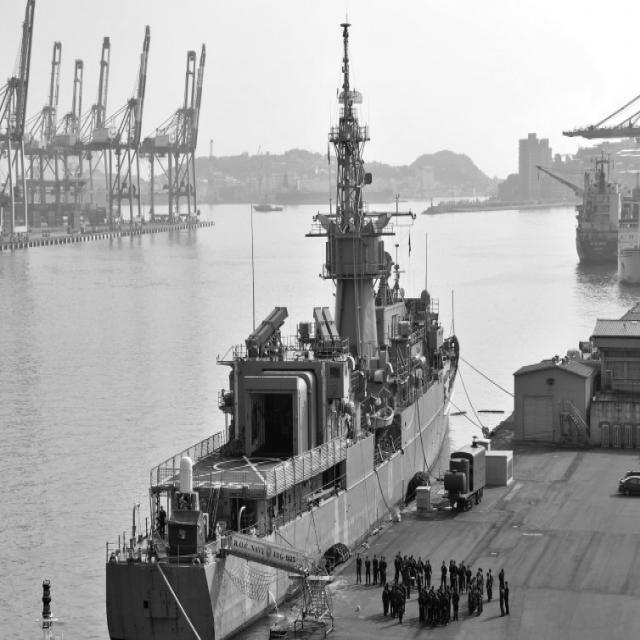Fragata: (101, 1, 470, 640)
